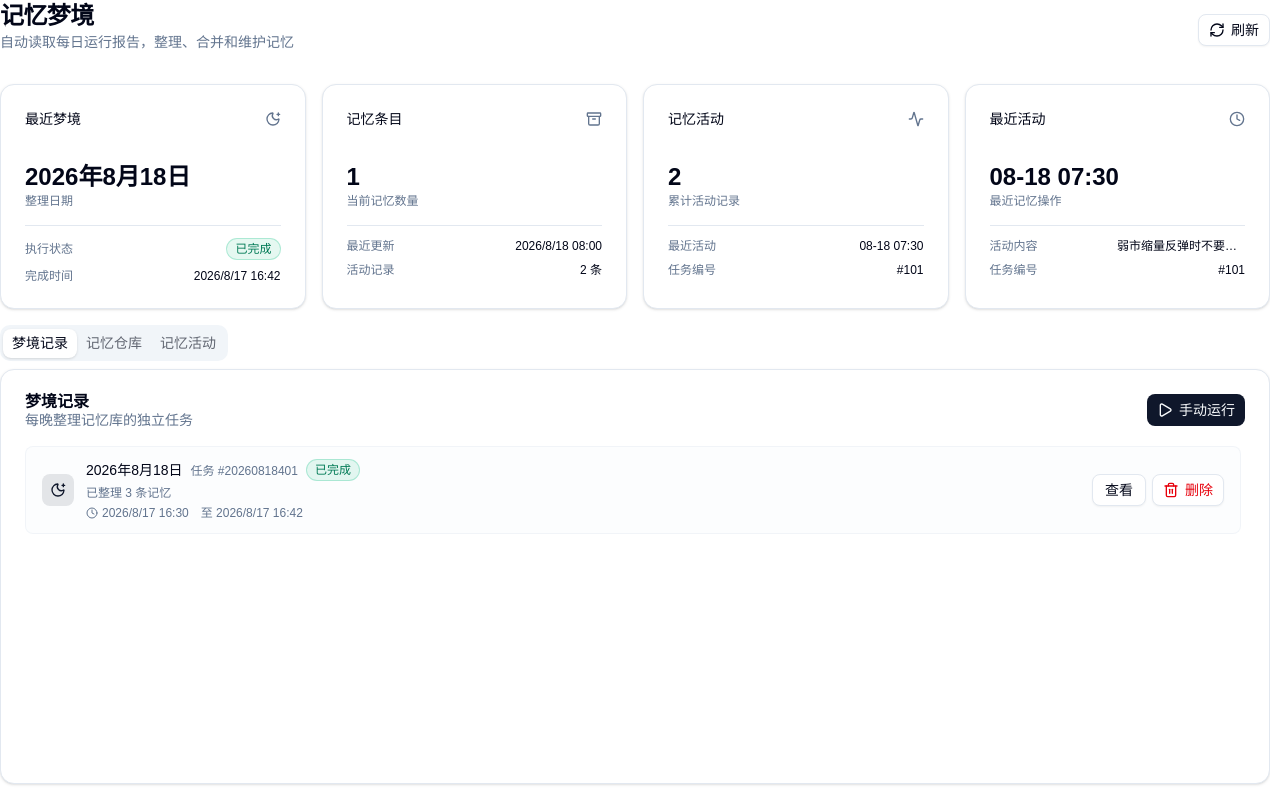
Scenario: MemoryOverviewPage › shows detail errors and retries the dream detail request
Expected: the text "已整理 3 条记忆" is shown, [86, 486, 171, 500]
Click the button "查看".
click(1119, 490)  # box [1092, 474, 1146, 506]
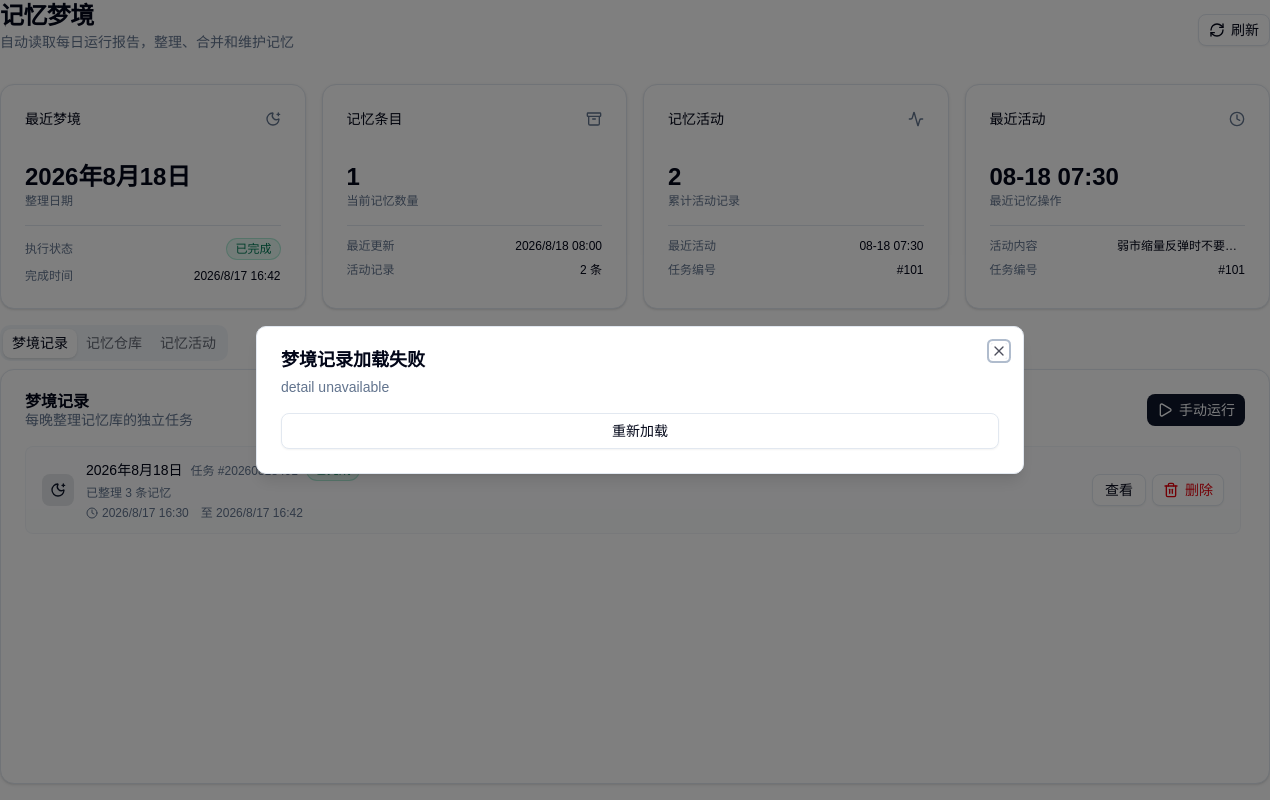
Now the heading "梦境记录加载失败" is shown, box [281, 350, 425, 370]
Now the text "detail unavailable" is shown, box [281, 379, 389, 395]
Click the button "重新加载".
click(640, 431)  # box [281, 413, 999, 449]
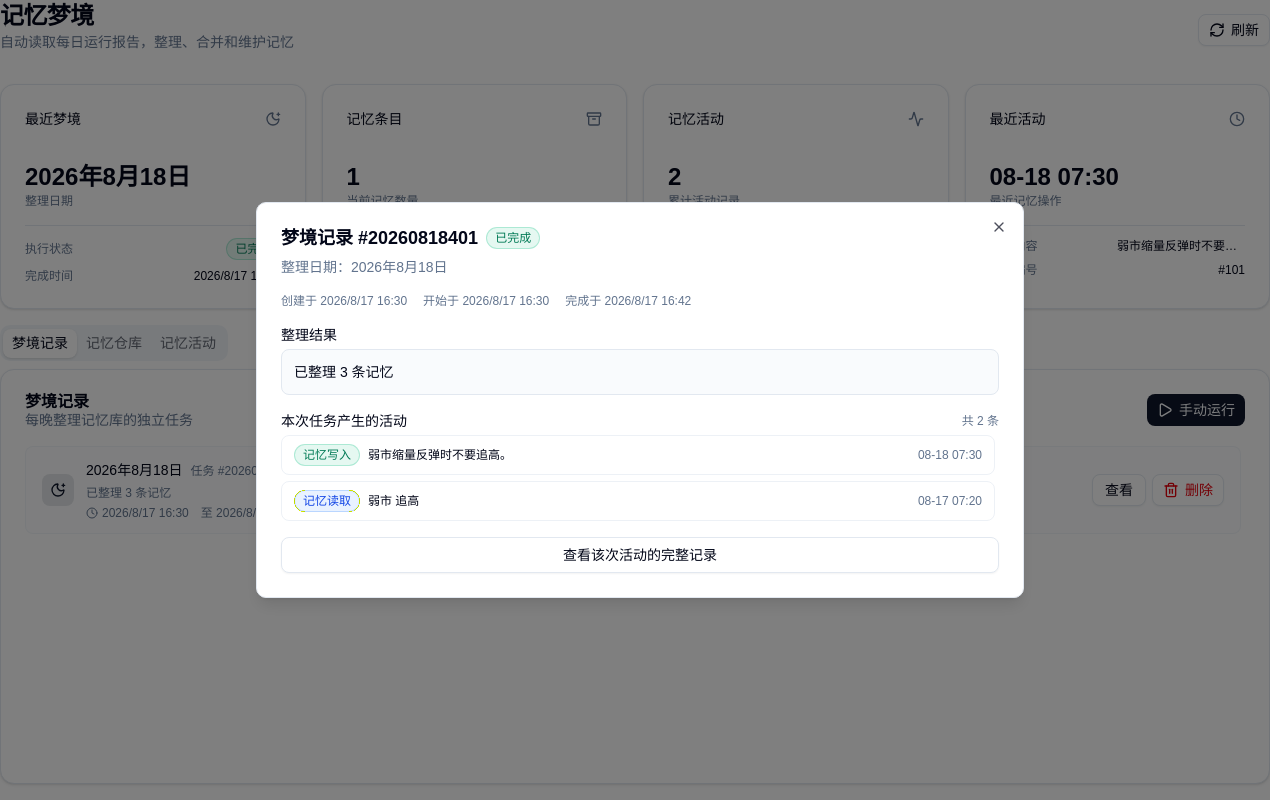
Now the heading "梦境记录 #20260818401 已完成" is shown, box [281, 227, 540, 249]
